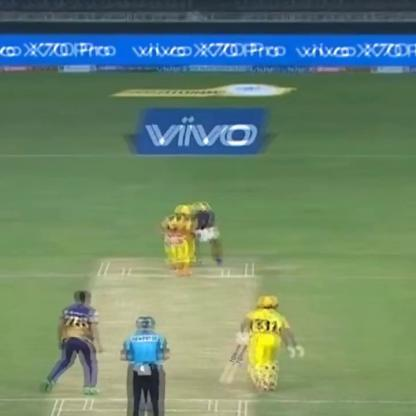pitch: (52, 254, 266, 416)
